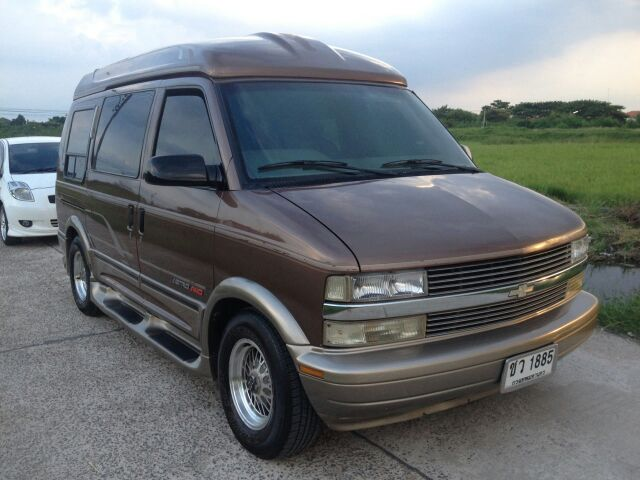van: (51, 32, 602, 461)
